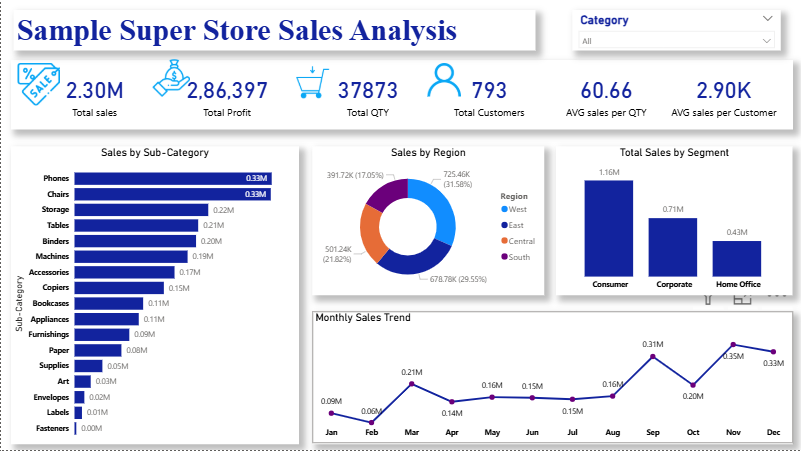

What the dashboard file says about the page in this screenshot:
{"tool":"powerbi","page":{"name":"Dashboard","canvas":[1280,720],"ordinal":0},"visuals":[{"type":"shape","box":[16.2,95,1251.2,111.2],"z":0},{"type":"card","fields":{"Values":["Measure.Total sales"]},"box":[60,103.8,180,95],"z":1000},{"type":"card","fields":{"Values":["Measure.Total Profit"]},"box":[272.5,103.8,180,95],"z":2000},{"type":"card","fields":{"Values":["Measure.Total QTY"]},"box":[498.8,103.8,178.8,95],"z":3000},{"type":"card","fields":{"Values":["Measure.Total Customers"]},"box":[691.2,103.8,178.8,95],"z":4000},{"type":"textbox","box":[20,15,835,65],"z":5000},{"type":"image","box":[232.5,90,80,70],"z":6000},{"type":"image","box":[20,95,80,77.5],"z":7000},{"type":"lineChart","title":"Monthly Sales Trend","fields":{"Category":["Calender Table.Month name"],"Y":["Measure.Total sales"]},"box":[498.8,497.5,768.8,212.5],"z":8000},{"type":"image","box":[460,95,77.5,68.8],"z":9000},{"type":"image","box":[667.5,96.2,82.5,63.8],"z":10000},{"type":"card","fields":{"Values":["Measure.AVG Sales per Qunantity"]},"box":[888.8,103.8,161.2,95],"z":11000},{"type":"card","fields":{"Values":["Measure.AVG sales per Customer"]},"box":[1066.2,103.8,181.2,95],"z":12000},{"type":"clusteredBarChart","title":"Sales by Sub-Category","fields":{"Y":["Measure.Total sales"],"Category":["Orders.Sub-Category"]},"box":[15.9,233.3,460.9,476.8],"z":13000},{"type":"donutChart","title":"Sales by Region","fields":{"Y":["Measure.Total sales"],"Category":["Orders.Region"]},"box":[498.8,233.8,371.2,238.8],"z":14000},{"type":"columnChart","title":"Total Sales by Segment","fields":{"Y":["Measure.Total sales"],"Category":["Orders.Segment"]},"box":[888.8,233.8,378.8,238.8],"z":15000},{"type":"slicer","fields":{"Values":["Orders.Category"]},"box":[913.8,15,333.8,65],"z":16000}]}

Visuals, with their boxes in screenshot pixels (x1, y1, x2, y2), scaled from the page's 1280x720 canvas onto the 801x451 screenshot:
shape: [10,60,793,129]
card - Measure.Total sales: [38,65,150,125]
card - Measure.Total Profit: [171,65,283,125]
card - Measure.Total QTY: [312,65,424,125]
card - Measure.Total Customers: [433,65,544,125]
textbox: [13,9,535,50]
image: [145,56,196,100]
image: [13,60,63,108]
"Monthly Sales Trend" lineChart: [312,312,793,445]
image: [288,60,336,103]
image: [418,60,469,100]
card - Measure.AVG Sales per Qunantity: [556,65,657,125]
card - Measure.AVG sales per Customer: [667,65,781,125]
"Sales by Sub-Category" clusteredBarChart: [10,146,298,445]
"Sales by Region" donutChart: [312,146,544,296]
"Total Sales by Segment" columnChart: [556,146,793,296]
slicer - Orders.Category: [572,9,781,50]
